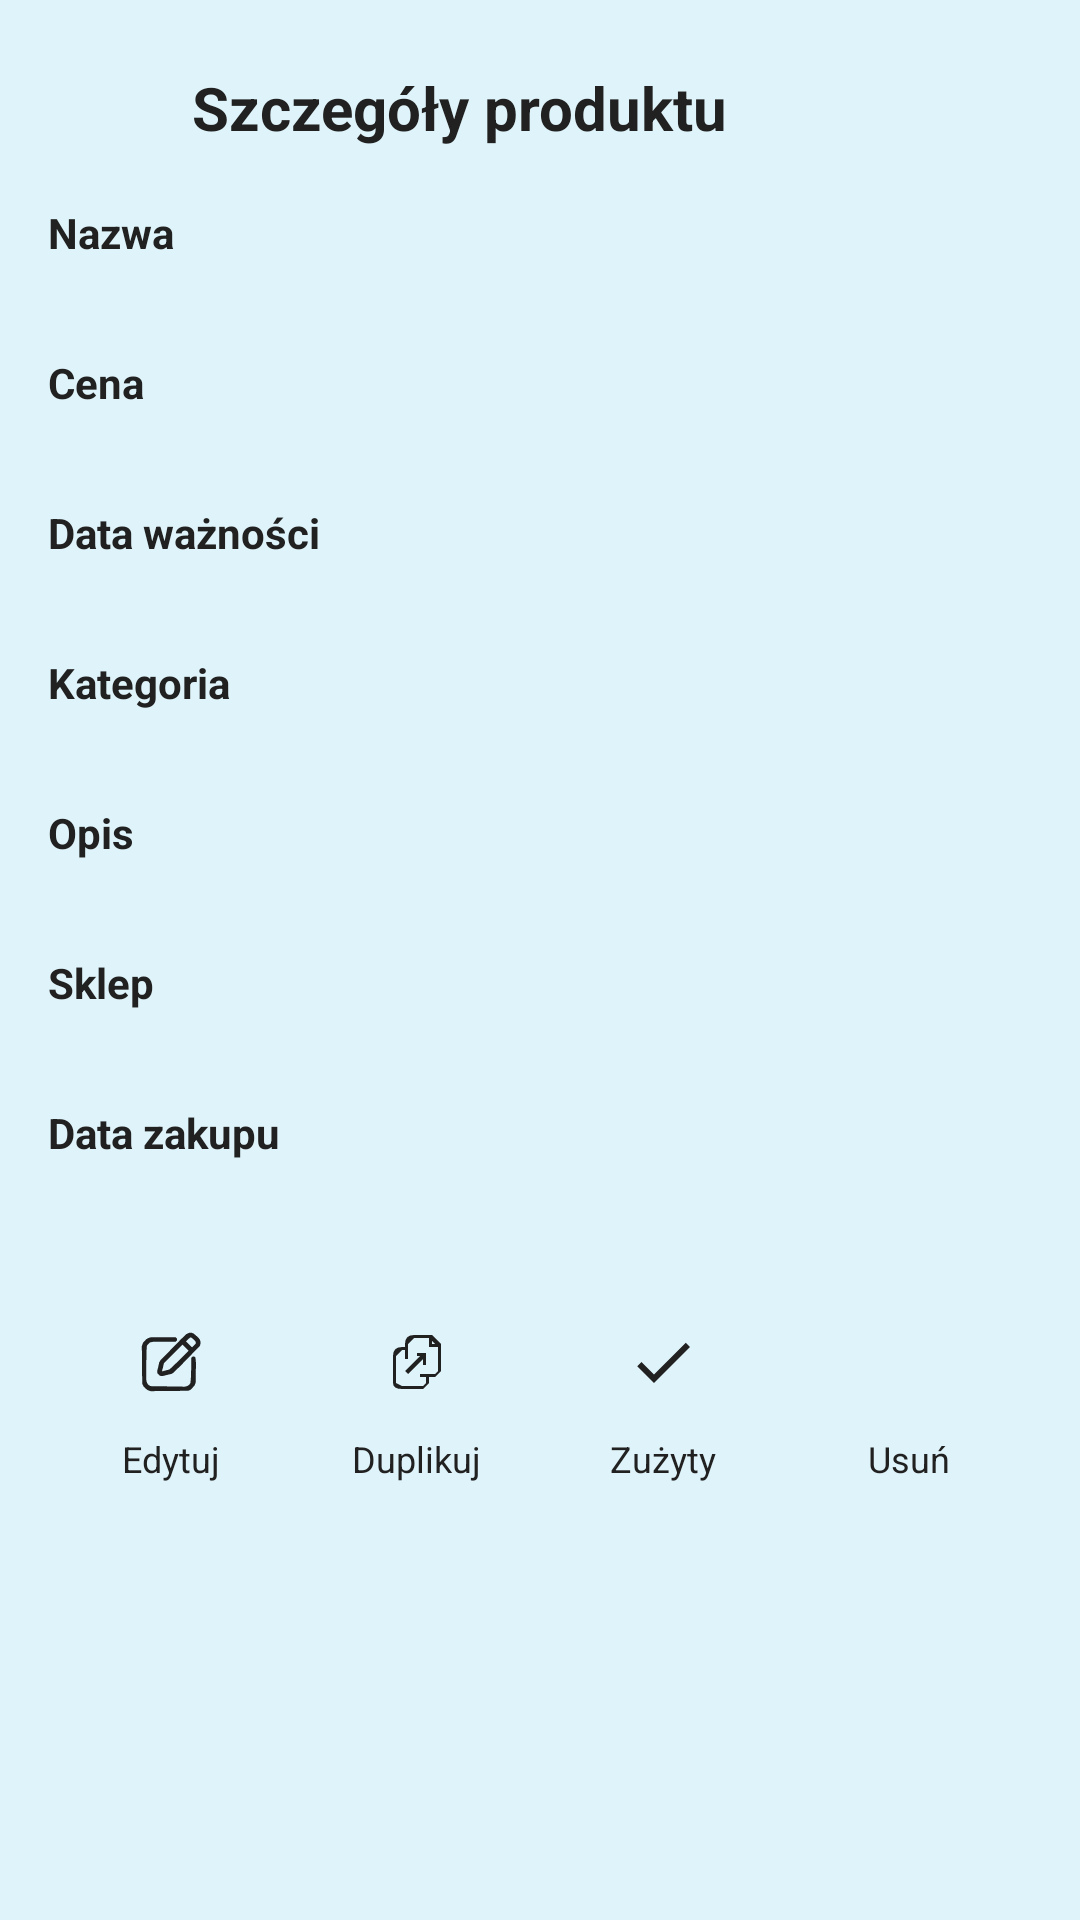

Where to tap for icons on this 1080px×1920px app screen, as (x,y):
Przełącz zużycie: (663,1363)
